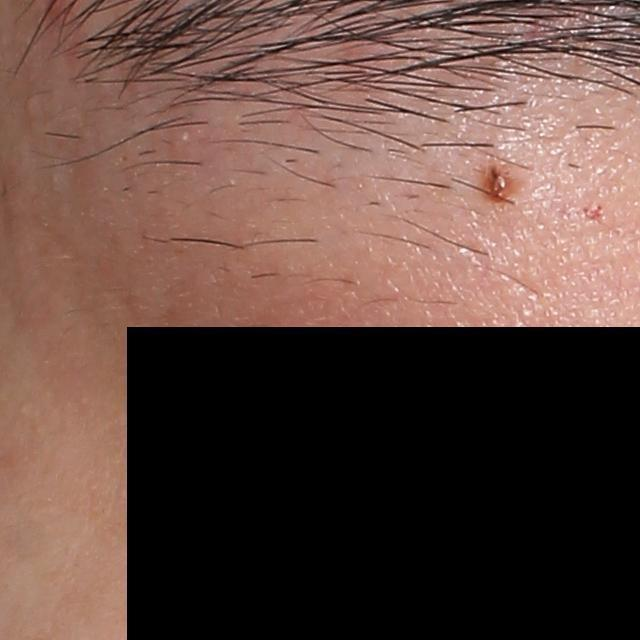nevus: (477, 163, 521, 203)
